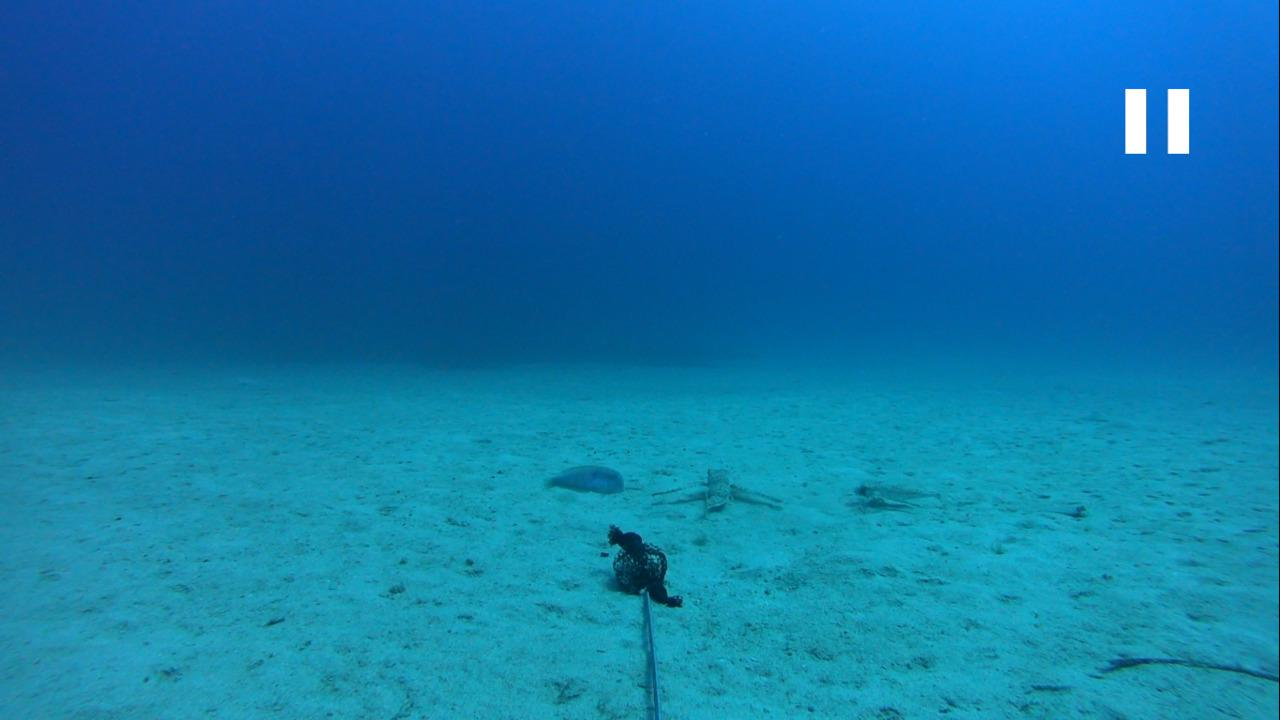bothus: (1000, 500, 1095, 520)
dactylopterus: (658, 461, 777, 519), (840, 477, 942, 512)
raor: (542, 461, 631, 500)
